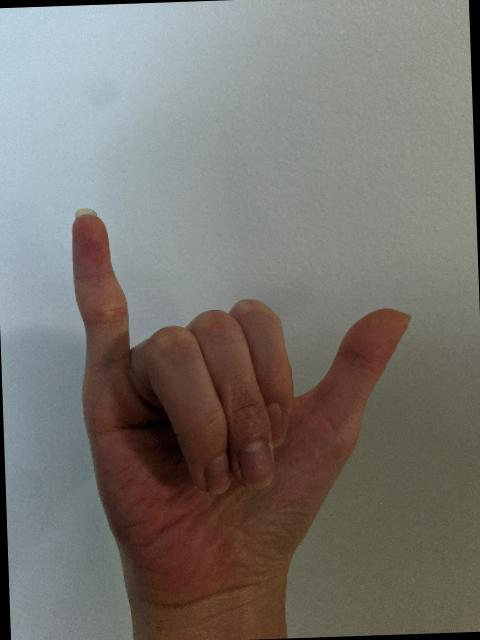Y: (66, 192, 426, 600)
